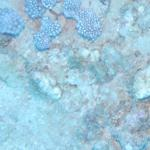dead: (1, 1, 148, 147)
